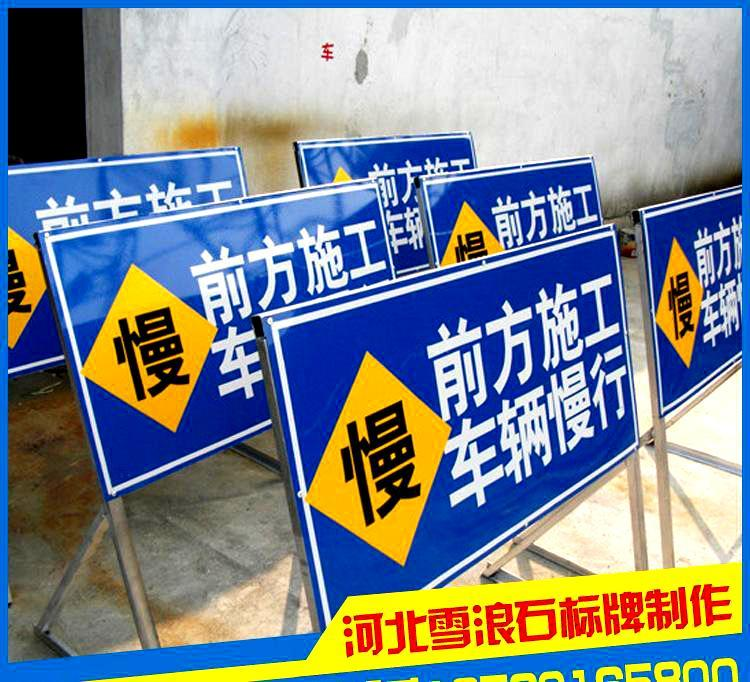sign: (297, 265, 629, 577), (64, 197, 376, 458), (6, 153, 249, 259), (650, 205, 742, 404), (433, 165, 602, 258), (308, 139, 472, 226)
